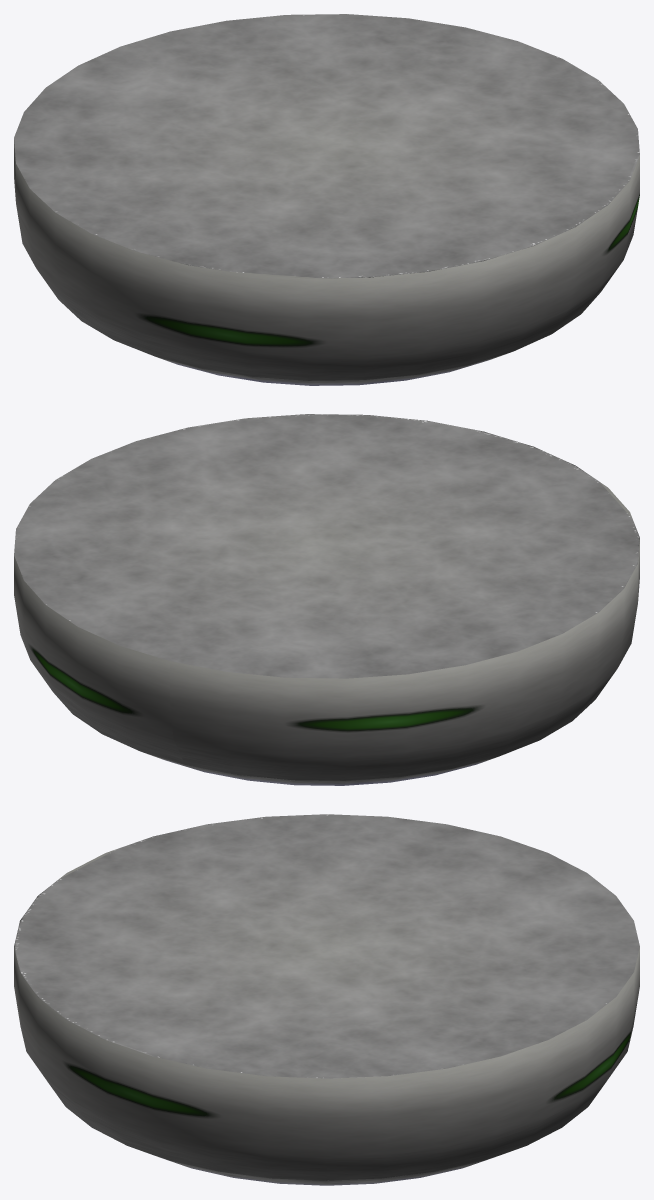
Rendered from platform.glb.
The picture shows the model from 3 angles, top to bottom: view 1: azimuth 30°, elevation 25°; view 2: azimuth 150°, elevation 25°; view 3: azimuth 270°, elevation 25°; orthographic projection.
Visible parts, largest first — view 1: Cylinder; view 2: Cylinder; view 3: Cylinder.
Boxes of the visible parts, x1,y1,x2,y2 form: Cylinder: (14, 14, 639, 385); Cylinder: (14, 414, 639, 785); Cylinder: (14, 814, 639, 1185).
Bounding box in the file's own units: 2 × 0.5 × 2.
Materials: 1 (1 with a texture image).
